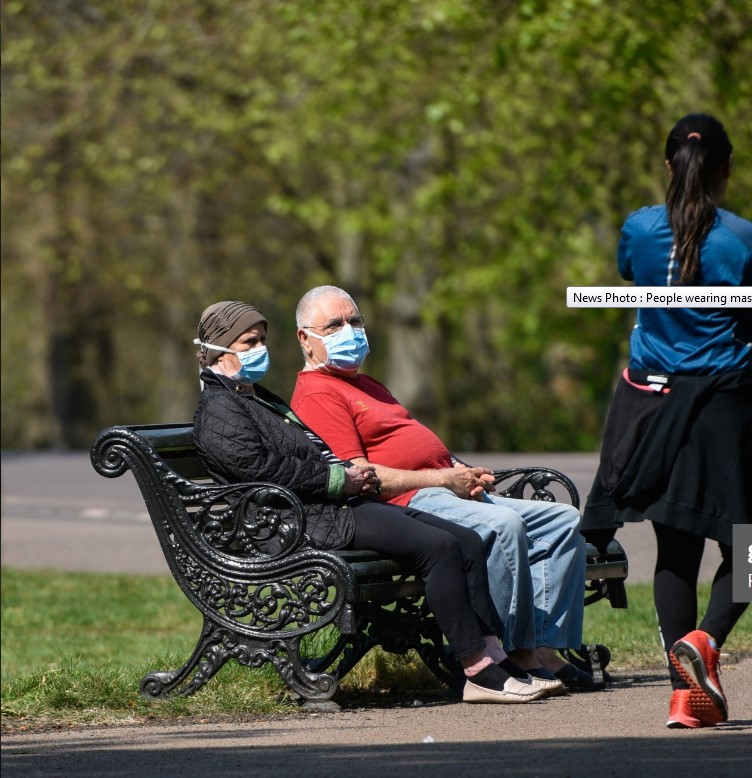face_with_mask: (296, 282, 371, 375), (196, 298, 272, 386)
